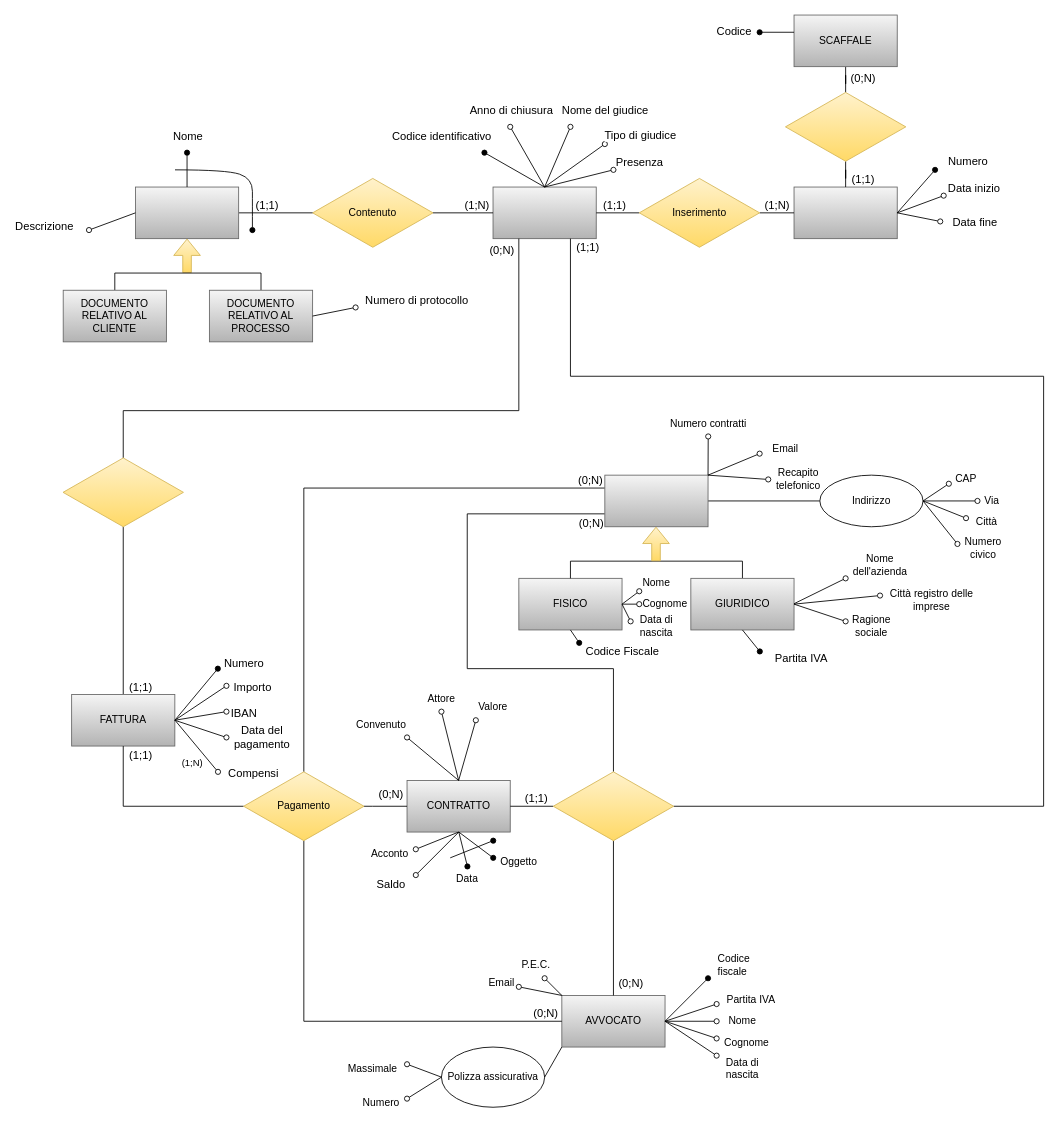
Image size: 1060x1131. Some labels were removed from this diagram. Each missing label, with the box of its shape:
CLIENTE: (604, 474, 708, 527)
DOCUMENTO: (135, 186, 239, 239)
FALDONE: (793, 186, 897, 239)
FASCICOLO: (492, 186, 596, 239)
Posizione: (785, 92, 906, 161)
Referenza: (62, 457, 183, 527)
Stipulazione: (552, 771, 674, 841)
